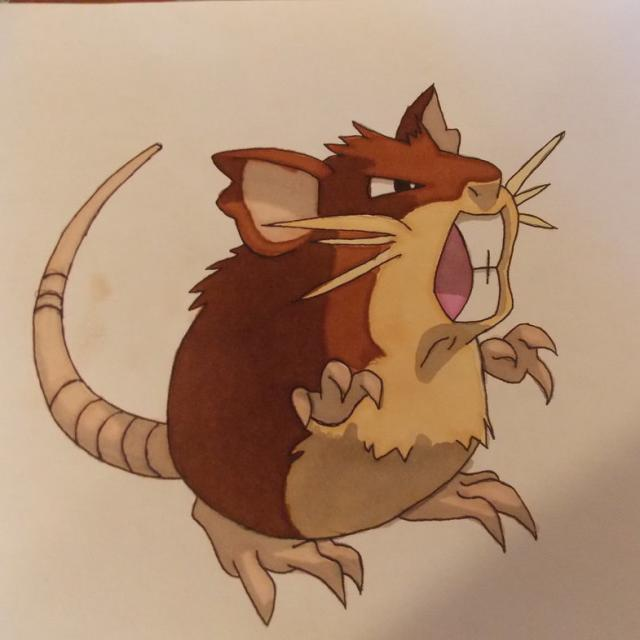Raticate: (122, 101, 540, 569)
